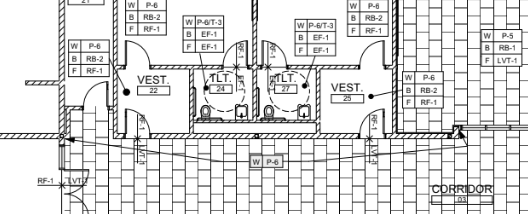door: (122, 107, 154, 138), (356, 39, 388, 70), (357, 107, 388, 139), (122, 39, 153, 69), (259, 39, 290, 69), (222, 38, 249, 67), (82, 80, 108, 108)
wall: (145, 130, 368, 144), (391, 1, 401, 134), (250, 1, 260, 119), (55, 1, 68, 84), (111, 1, 118, 141), (145, 62, 225, 74), (1, 130, 67, 144), (383, 131, 465, 142), (286, 63, 360, 73), (190, 119, 318, 124), (314, 66, 323, 137), (187, 67, 196, 135), (58, 82, 66, 149), (21, 77, 60, 87), (65, 102, 72, 138), (63, 104, 84, 112)
